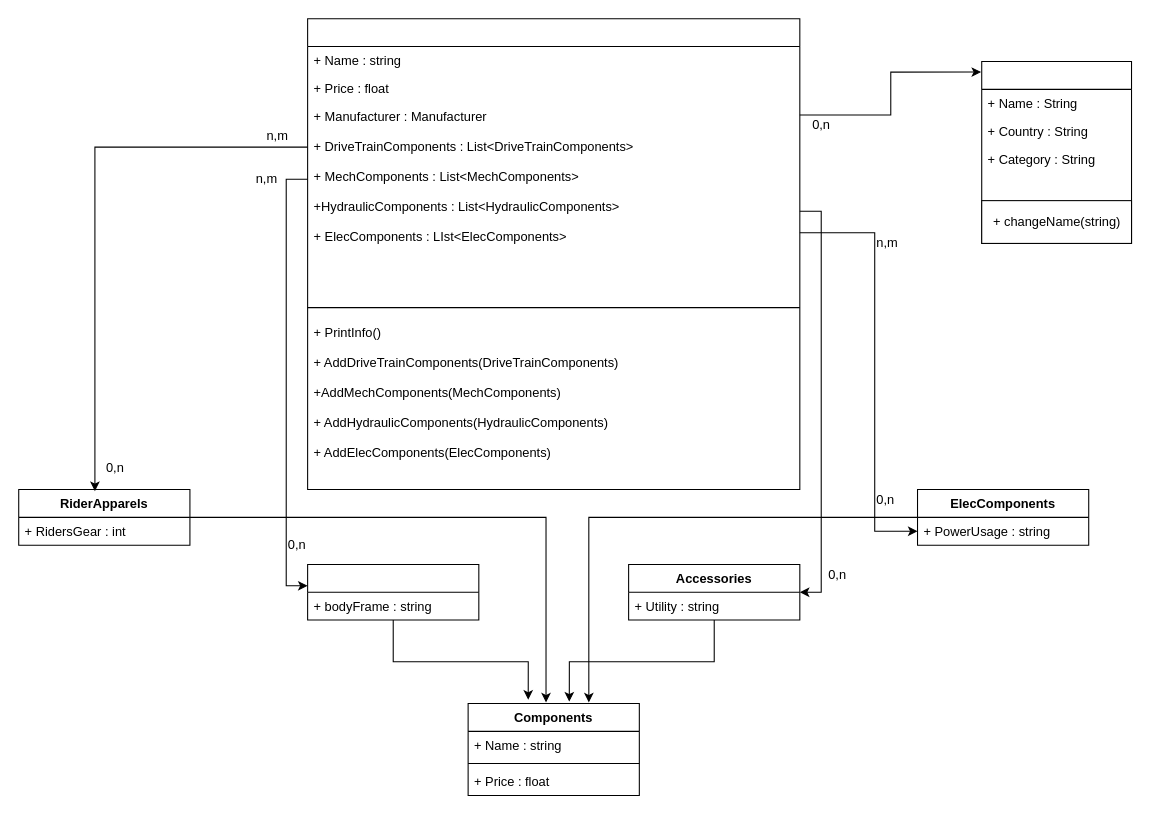
This 1150x817 diagram has some shape labels left out. Here are the shapes that lost their labels. From the top down, the box of each, then its label:
(981, 60, 1132, 243): manufacturer
(307, 18, 800, 490): Bicycle
(307, 563, 479, 620): MechComponents
